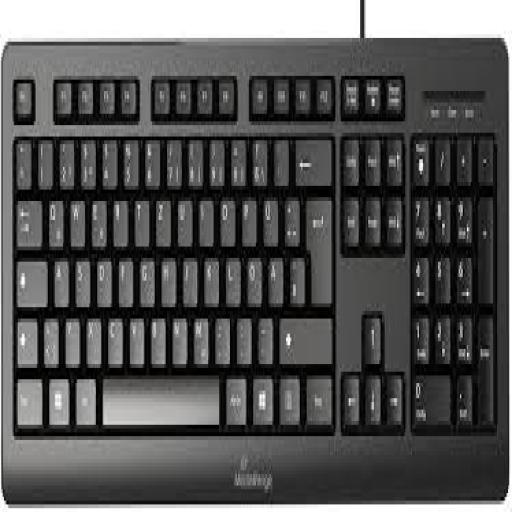KEYBOARD-2: (0, 42, 511, 497)
